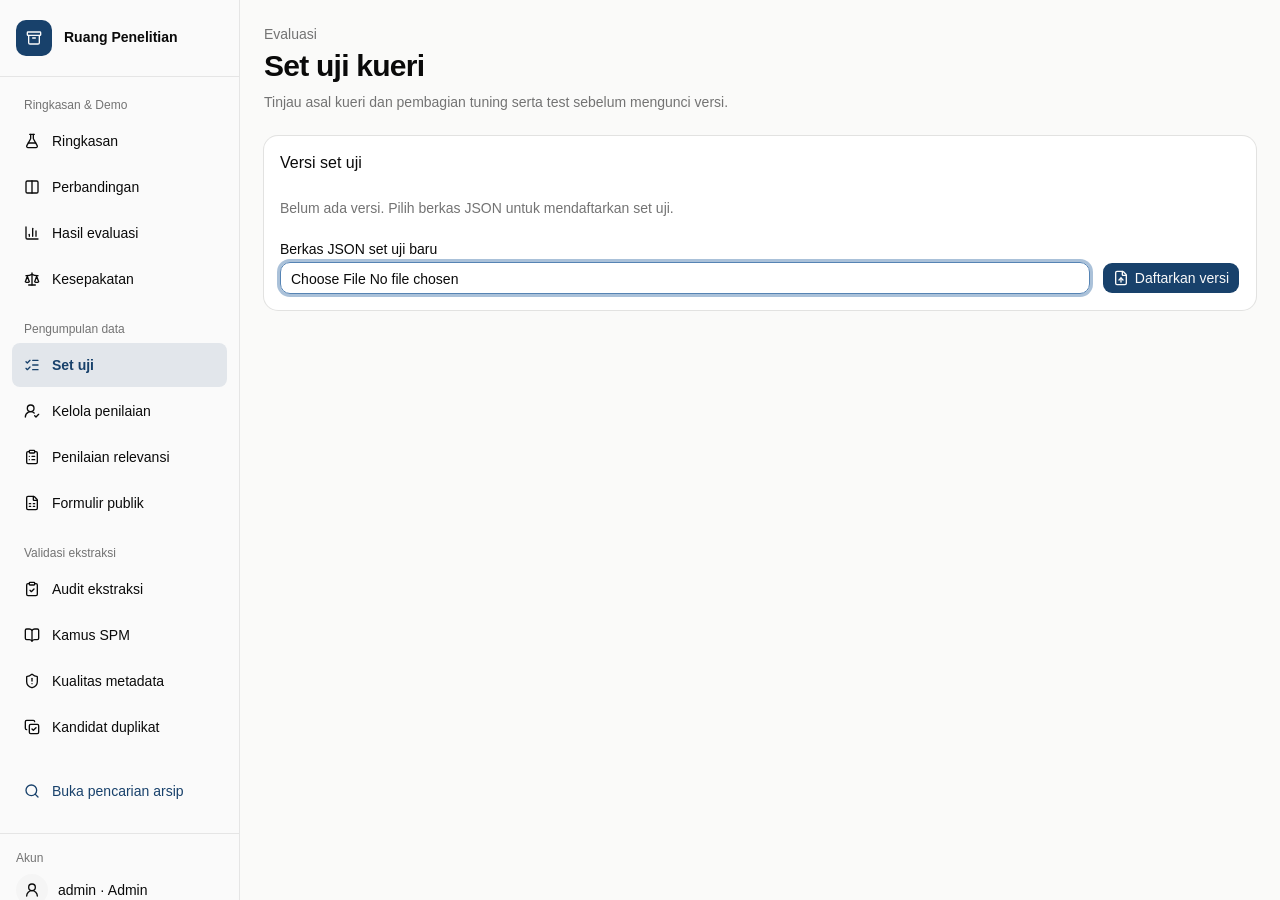
it: mendaftarkan draf, menyaring kueri, lalu mengunci dengan hash yang ditinjau
The width and height of the screenshot is (1280, 900).
Earlier steps of the test are not shown.
Check: the text "Belum ada versi" is shown, box x1=280 y1=200 x2=674 y2=216
What coordinates should you click on to do the following:
click the button "Daftarkan versi"
I would click on:
 (1171, 278)
Its box is x1=1102 y1=262 x2=1240 y2=294.
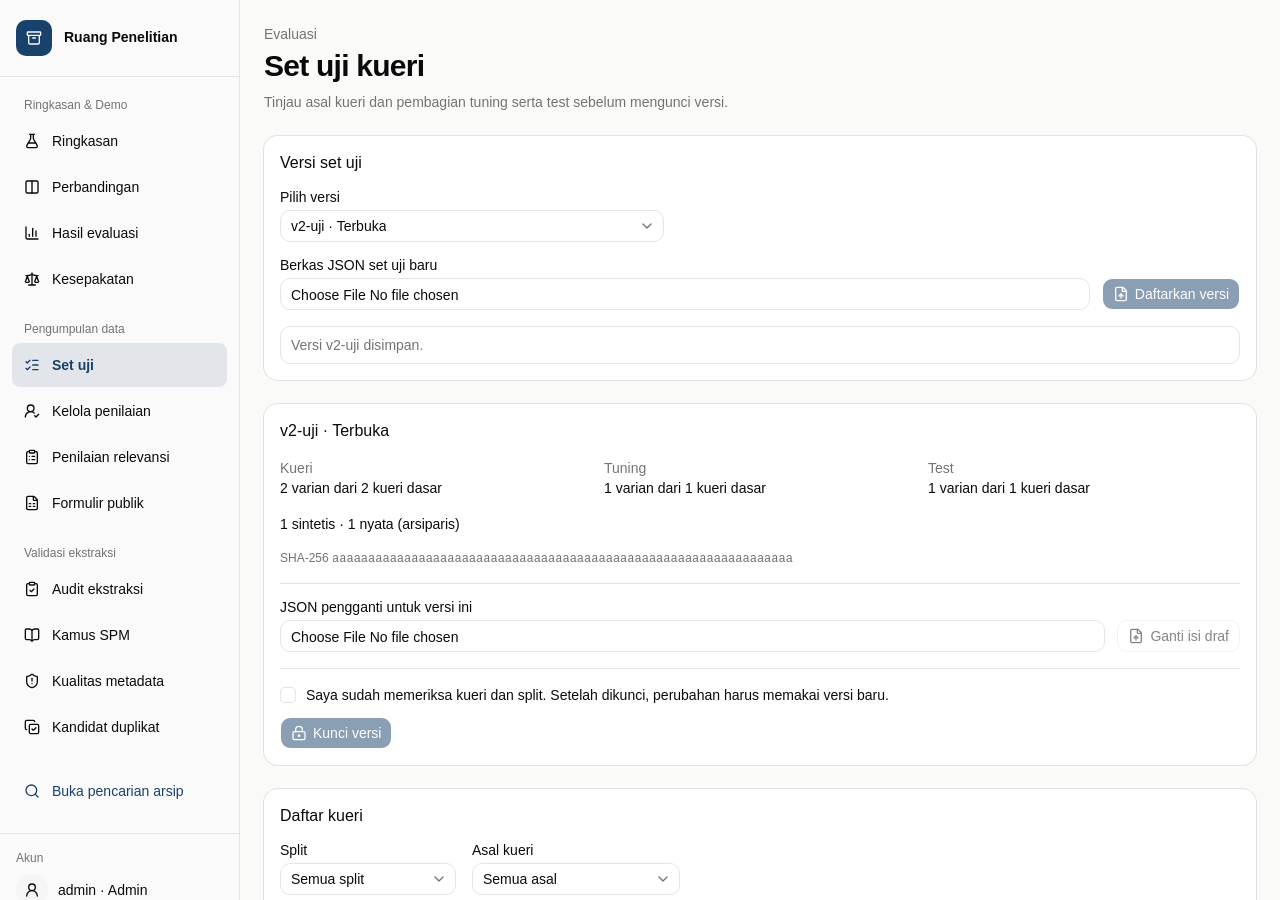
Check: the text "Versi v2-uji disimpan." is shown, box x1=291 y1=337 x2=423 y2=353
Check: the heading "v2-uji · Terbuka" is shown, box x1=280 y1=422 x2=389 y2=439
Check: the text "1 sintetis · 1 nyata (arsiparis)" is shown, box x1=280 y1=516 x2=460 y2=532
What coordinates should you click on to do the following:
click the dropdown named "Asal kueri"
I would click on:
 (576, 879)
Its box is x1=472 y1=863 x2=680 y2=895.
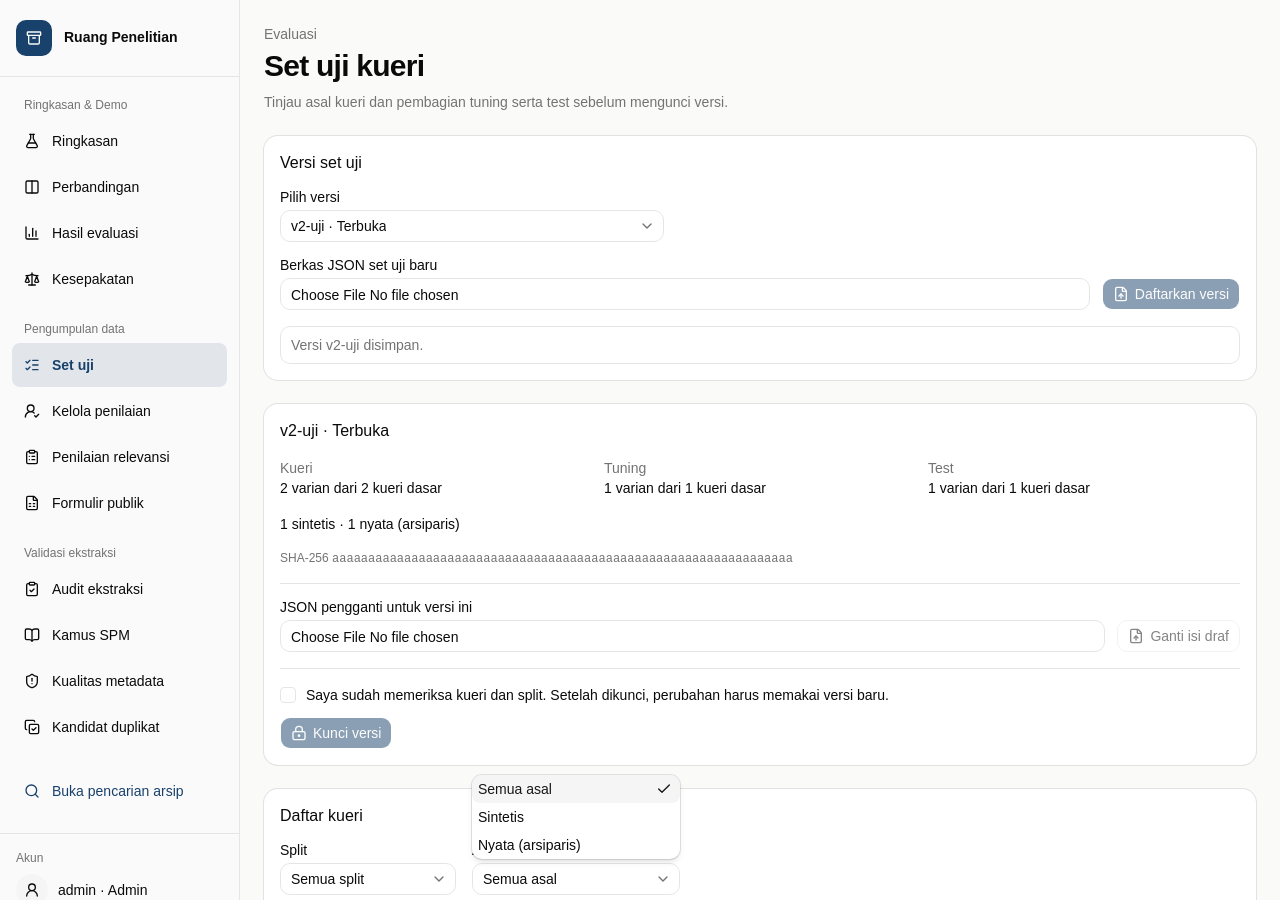
What coordinates should you click on to do the following:
click the option "Nyata (arsiparis)"
I would click on:
 (529, 845)
Its box is x1=478 y1=837 x2=581 y2=853.
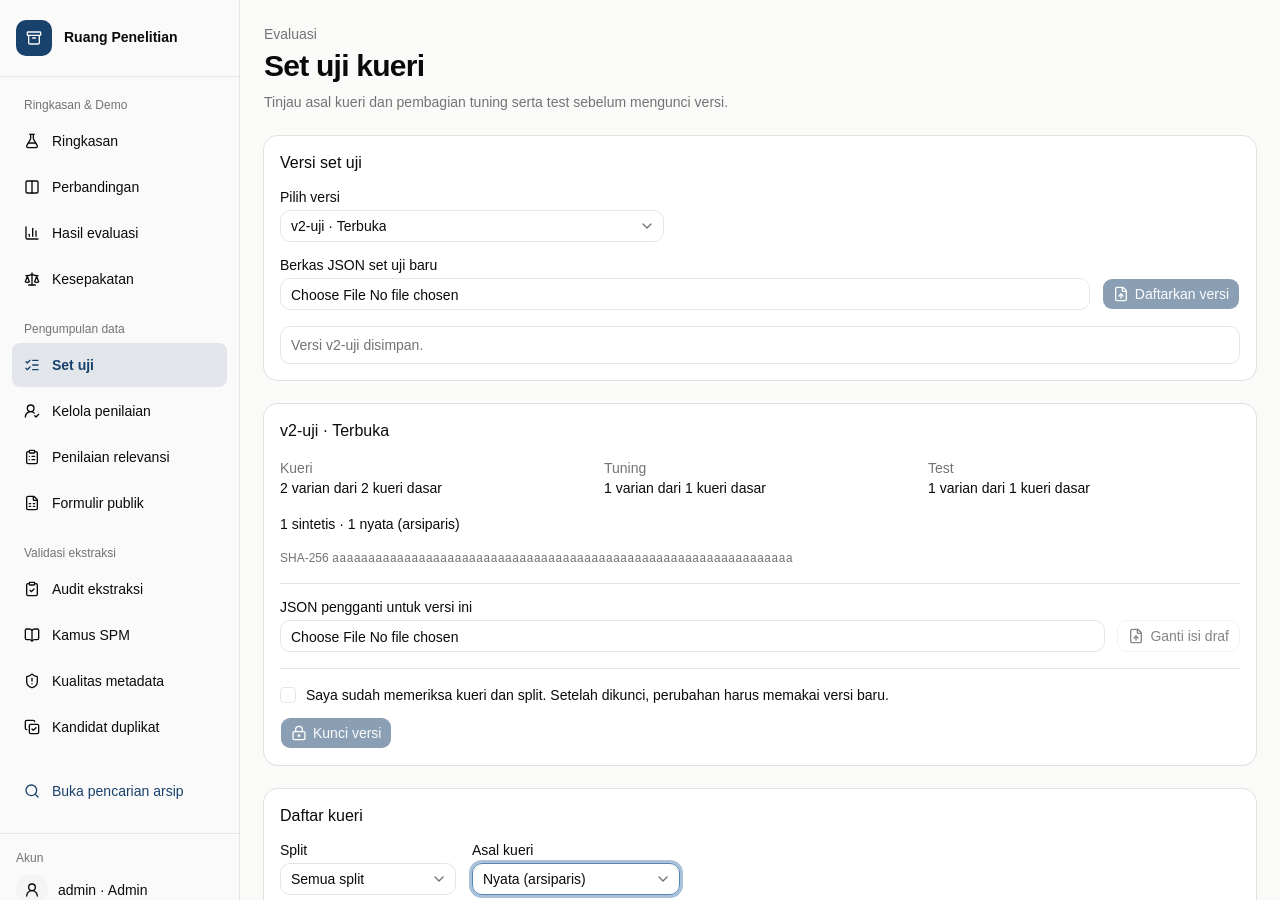
Check: the button "Kunci versi" is disabled, box x1=280 y1=717 x2=392 y2=749
What coordinates should you click on to do the following:
click the checkbox
I would click on:
 (288, 695)
Its box is x1=280 y1=687 x2=296 y2=703.
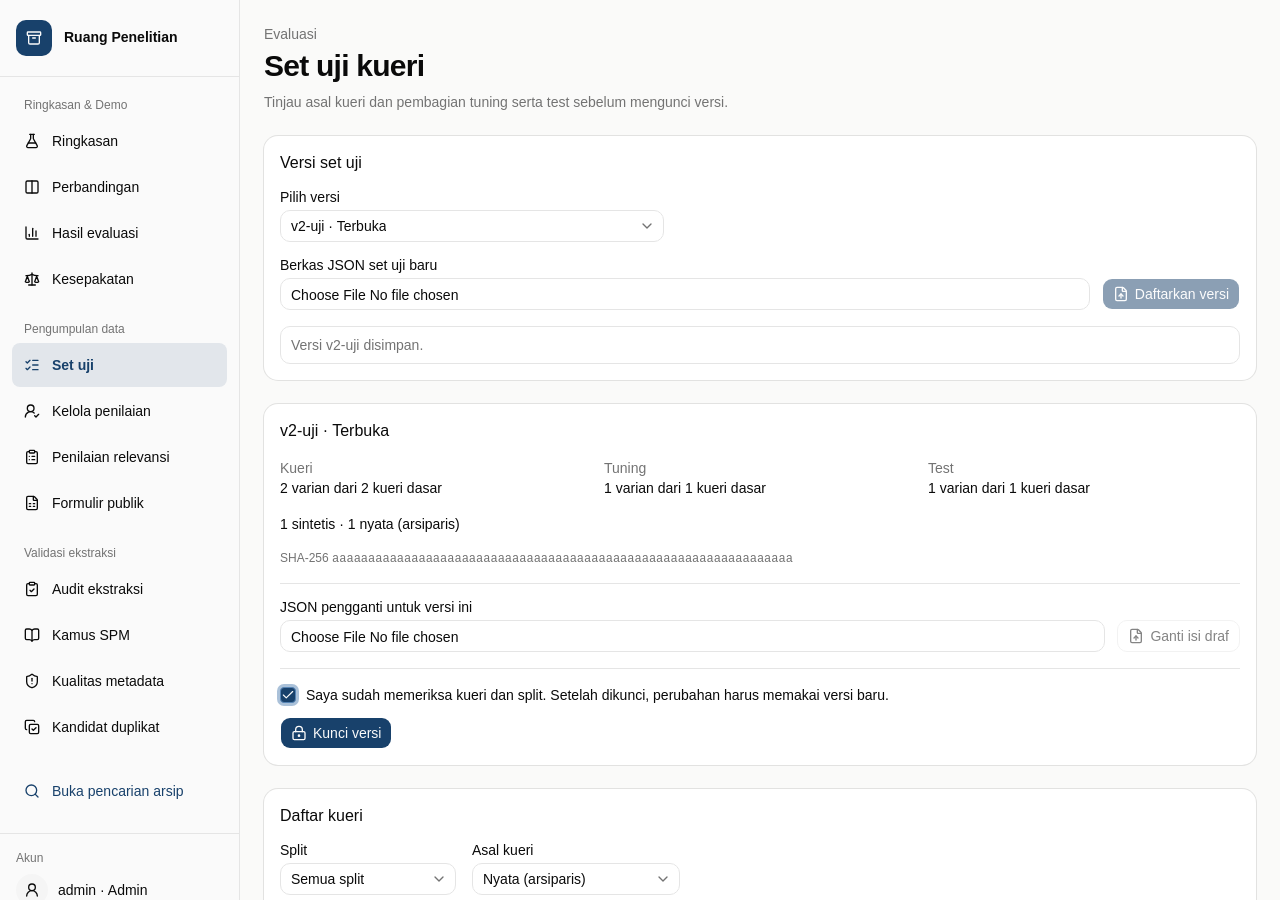
What coordinates should you click on to do the following:
click the button "Kunci versi"
I would click on:
 (336, 733)
Its box is x1=280 y1=717 x2=392 y2=749.
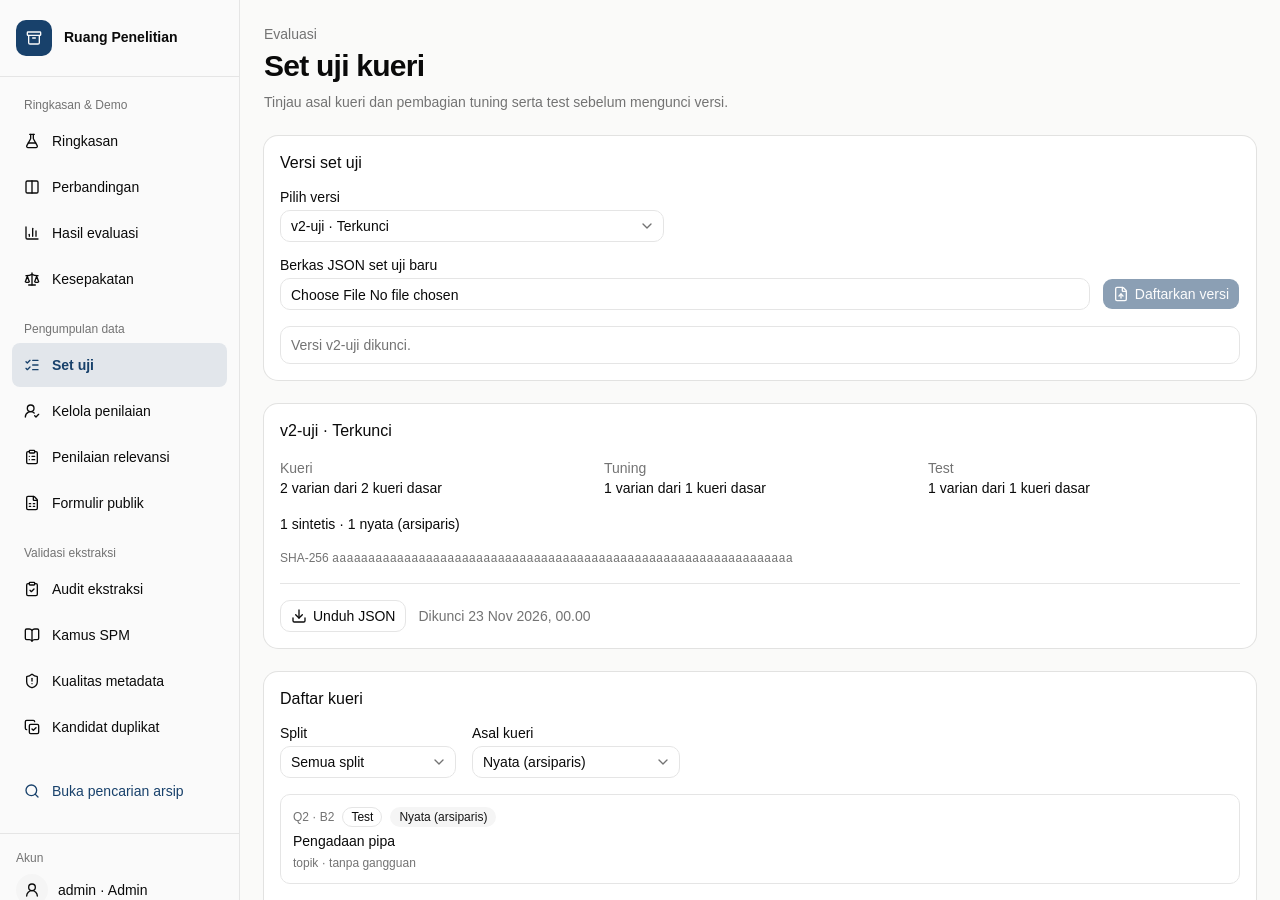
Check: the button "Ganti isi draf" is gone
